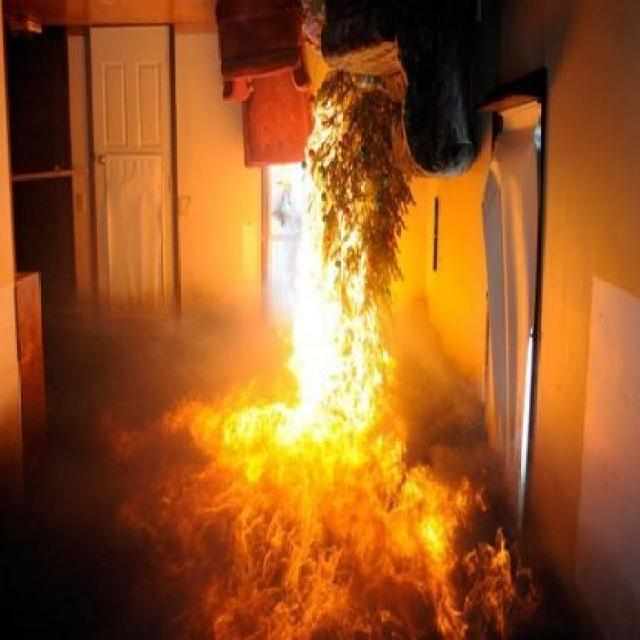fire: (160, 74, 534, 635)
